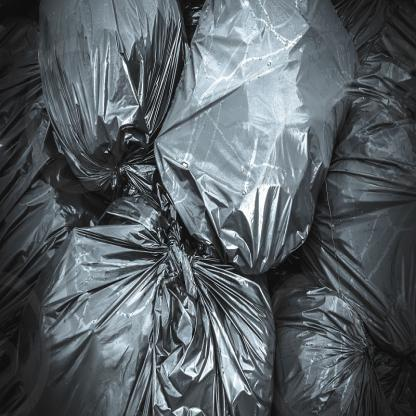Garbage: (60, 190, 272, 416), (164, 0, 340, 270), (0, 15, 114, 336), (38, 0, 179, 179), (325, 60, 415, 330), (278, 270, 416, 415)
